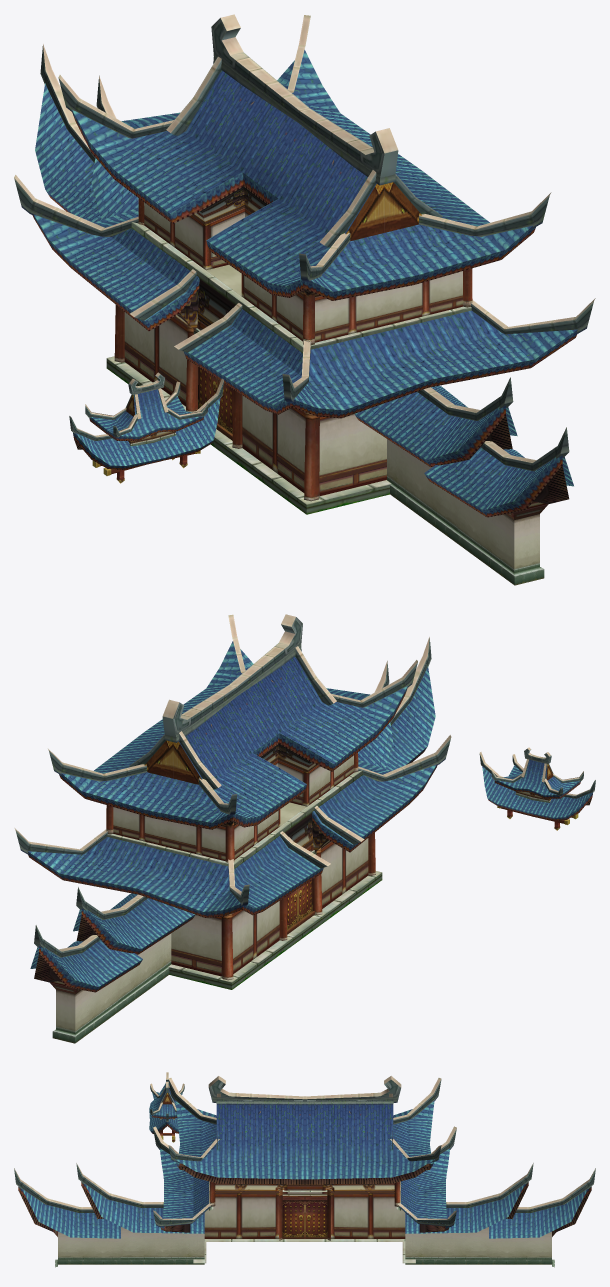
Rendered from ji_jian_tai_001.FBX.
The picture shows the model from 3 angles, top to bottom: view 1: azimuth 30°, elevation 25°; view 2: azimuth 150°, elevation 25°; view 3: azimuth 270°, elevation 25°; orthographic projection. The views are drawn at different scales.
Parts seen in each view (by area): view 1: ji_jian_tai_001_a, ji_jian_tai_001_b; view 2: ji_jian_tai_001_a, ji_jian_tai_001_b; view 3: ji_jian_tai_001_a, ji_jian_tai_001_b.
Boxes of the visible parts, x1,y1,x2,y2 form: ji_jian_tai_001_a: [14, 14, 595, 585]; ji_jian_tai_001_b: [69, 372, 223, 483]; ji_jian_tai_001_a: [14, 614, 451, 1043]; ji_jian_tai_001_b: [479, 747, 595, 830]; ji_jian_tai_001_a: [14, 1076, 595, 1267]; ji_jian_tai_001_b: [149, 1072, 184, 1142].
Bounding box in the file's own units: 2926 × 1869 × 5153.
Materials: 1 (1 with a texture image).
